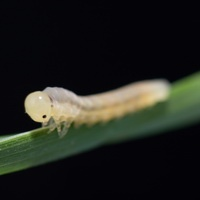insect: (24, 79, 169, 137)
